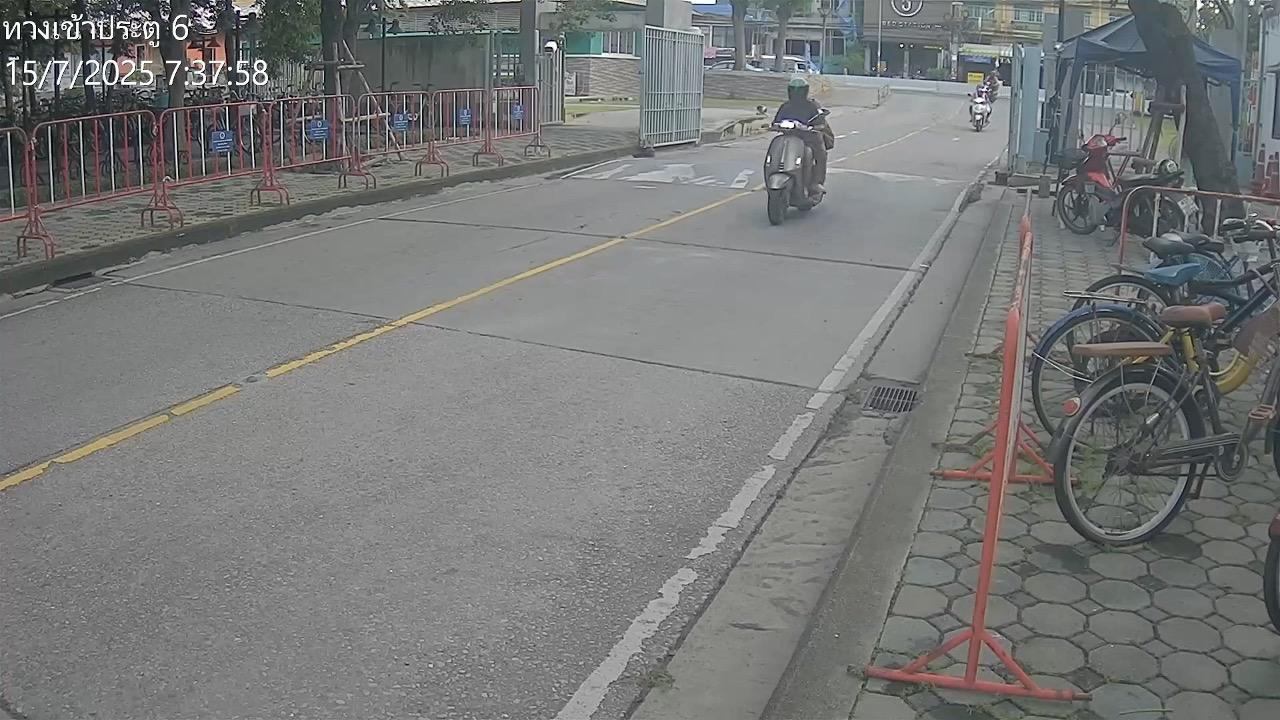With-Helmet: (787, 76, 810, 101)
